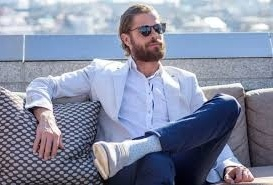not_fallen: (12, 1, 260, 185)
